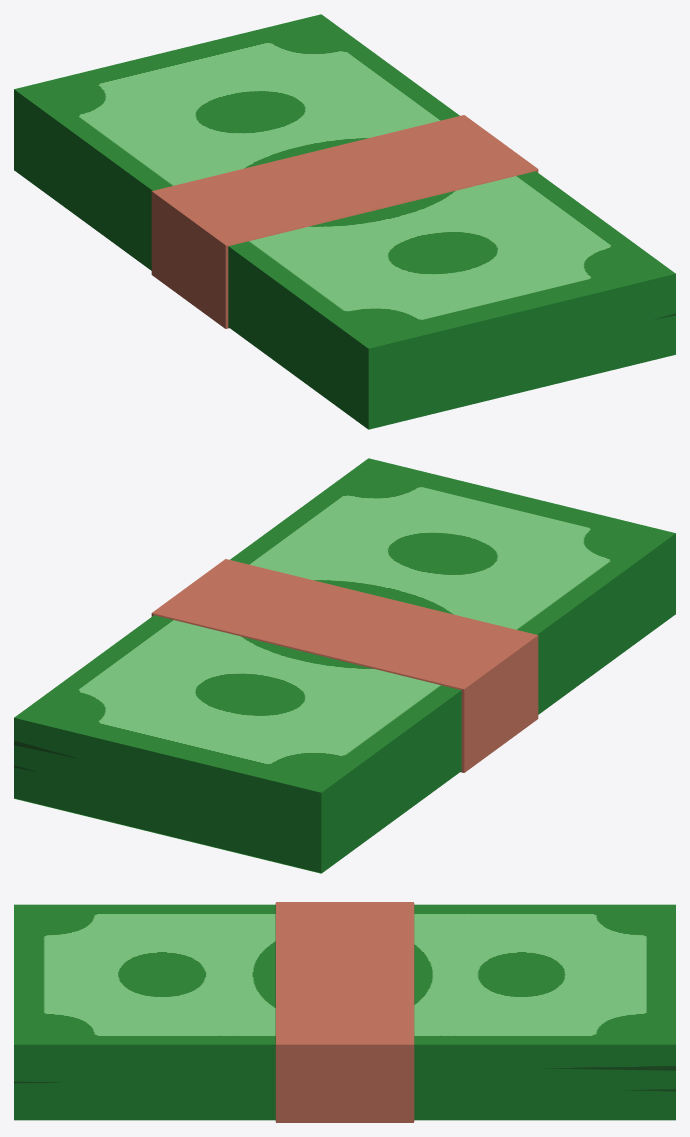
File: Money 1.fbx
3 renders of one model, top to bottom at view 1: azimuth 30°, elevation 25°; view 2: azimuth 150°, elevation 25°; view 3: azimuth 270°, elevation 25°, orthographic. The views are drawn at different scales.
Visible parts, largest first — view 1: Cube; view 2: Cube; view 3: Cube.
Boxes of the visible parts, box(x1,y1,x2,y2) form: Cube: box(14, 14, 675, 429); Cube: box(14, 458, 675, 873); Cube: box(14, 902, 675, 1122).
Bounding box in the file's own units: 1.27 × 0.3261 × 2.5.
1 material, 1 textured.
